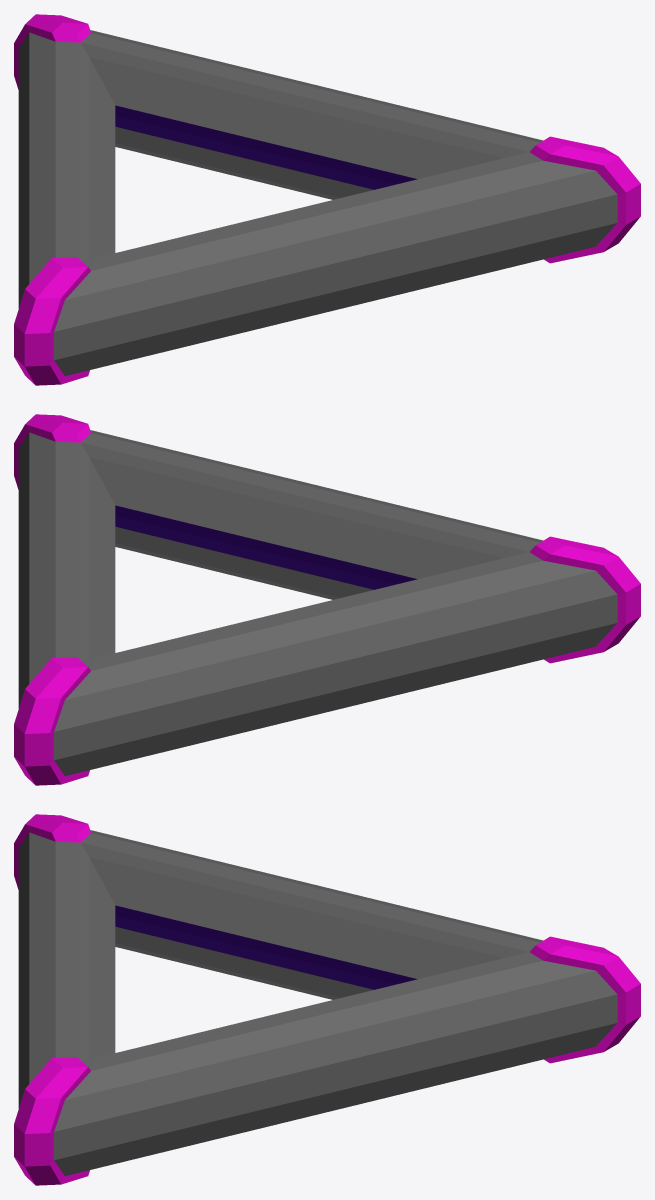
The model's file is driehoek.fbx.
3 views of the same model, one above another, from view 1: azimuth 30°, elevation 25°; view 2: azimuth 150°, elevation 25°; view 3: azimuth 270°, elevation 25° (orthographic).
Parts seen in each view (by area): view 1: Cylinder; view 2: Cylinder; view 3: Cylinder.
Part boxes in pixels (left/top/right/bottom): Cylinder: left=14, top=14, right=640, bottom=385; Cylinder: left=14, top=414, right=640, bottom=785; Cylinder: left=14, top=814, right=640, bottom=1185.
Size of the model in its own units: 303 by 267 by 51.32.
